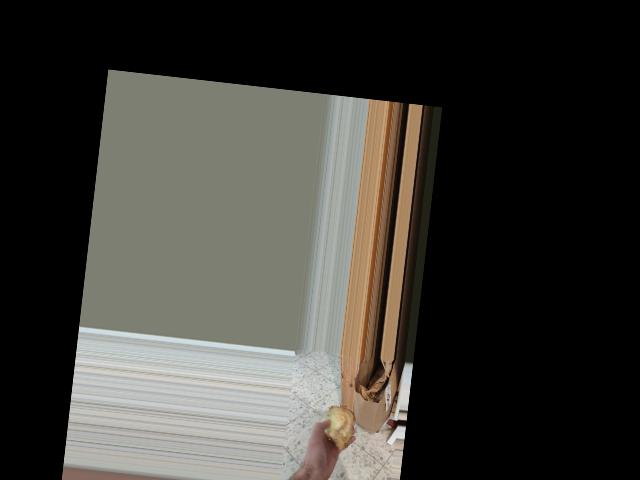onion: (316, 402, 356, 453)
